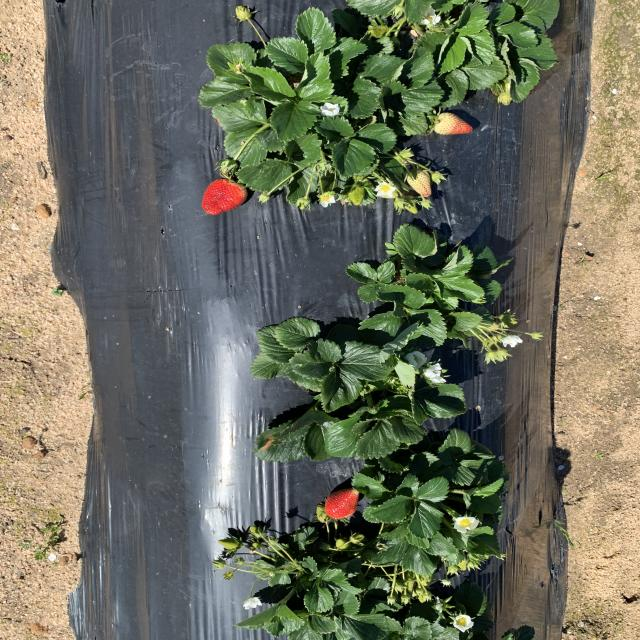unripe: (200, 176, 247, 218), (326, 487, 358, 519)
